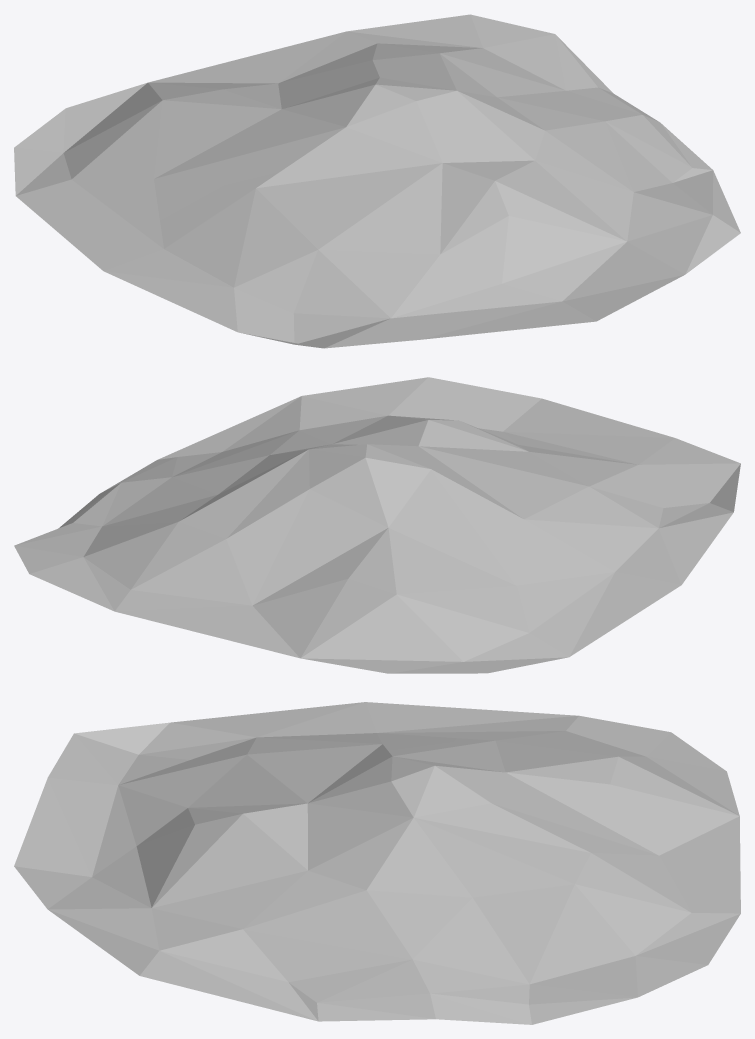
The model's file is Mud_02.fbx.
3 views of the same model, one above another, from view 1: azimuth 30°, elevation 25°; view 2: azimuth 150°, elevation 25°; view 3: azimuth 270°, elevation 25° (orthographic). The views are drawn at different scales.
Parts seen in each view (by area): view 1: Mud_02; view 2: Mud_02; view 3: Mud_02.
Part boxes in pixels (x1,y1,x2,y2): Mud_02: (14,14,740,348); Mud_02: (14,377,740,673); Mud_02: (14,702,740,1024).
Bounding box in the file's own units: 2.02 × 0.3699 × 2.09.
